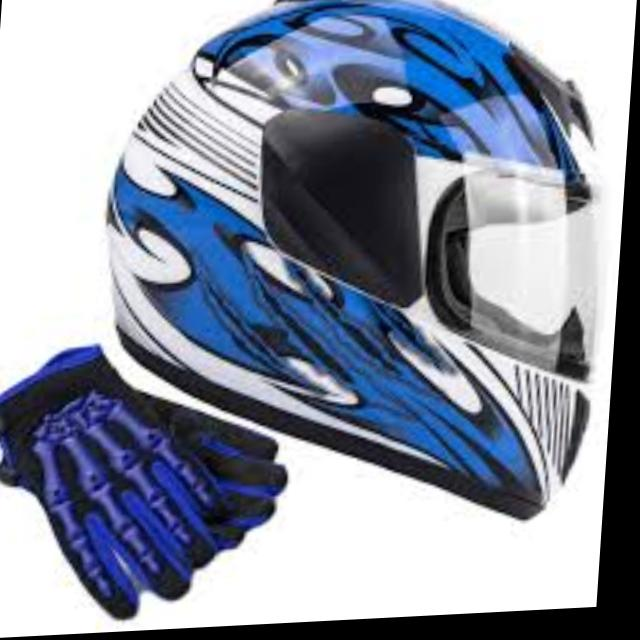motorcycle-helmets: (111, 0, 596, 517)
